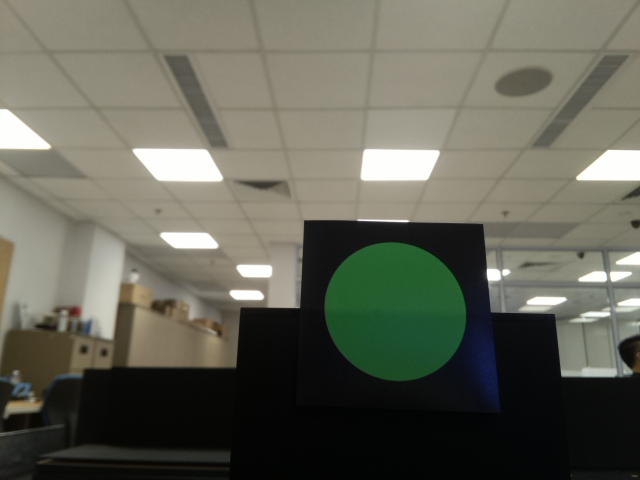go: (317, 236, 480, 400)
